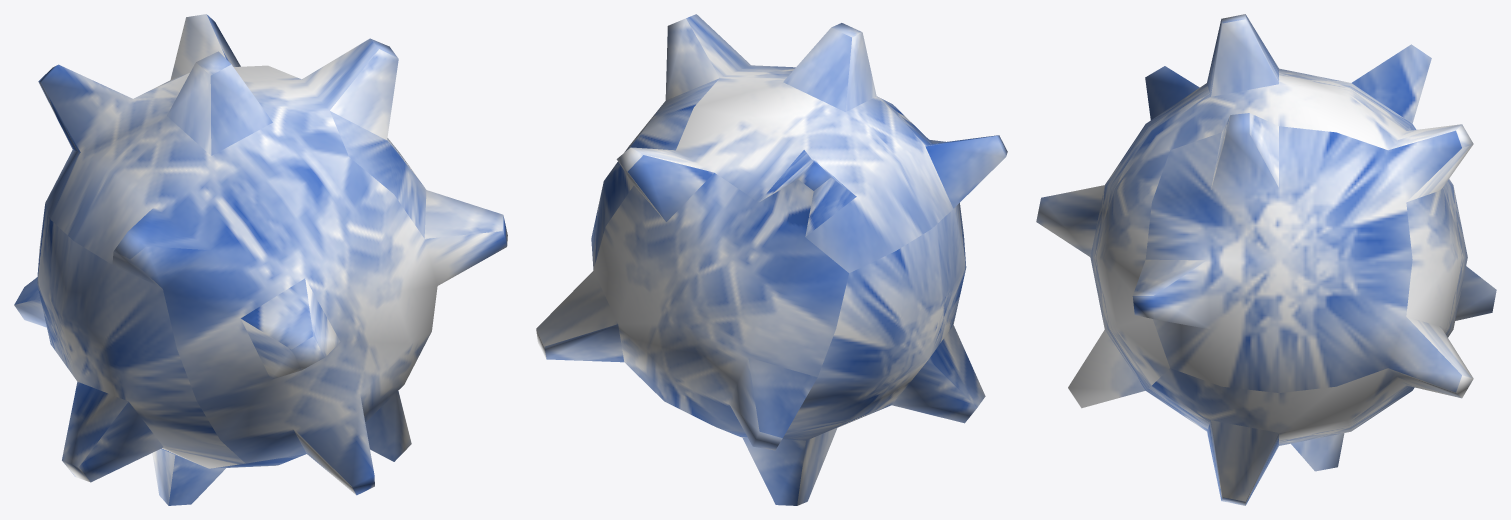
The model's file is esfera1-reator.fbx.
3 views of the same model, side by side, from view 1: azimuth 30°, elevation 25°; view 2: azimuth 150°, elevation 25°; view 3: azimuth 270°, elevation 25° (orthographic). The views are drawn at different scales.
Visible parts, largest first — view 1: Cube; view 2: Cube; view 3: Cube.
Boxes of the visible parts, left/top/right/bottom form: Cube: left=14, top=14, right=507, bottom=505; Cube: left=536, top=14, right=1007, bottom=505; Cube: left=1036, top=14, right=1496, bottom=505.
Bounding box in the file's own units: 0.4775 × 0.5551 × 0.5176.
